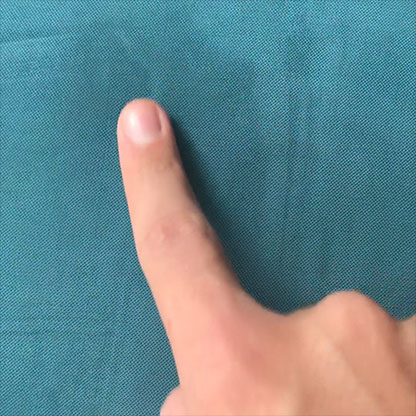fingertip: (111, 92, 184, 156)
